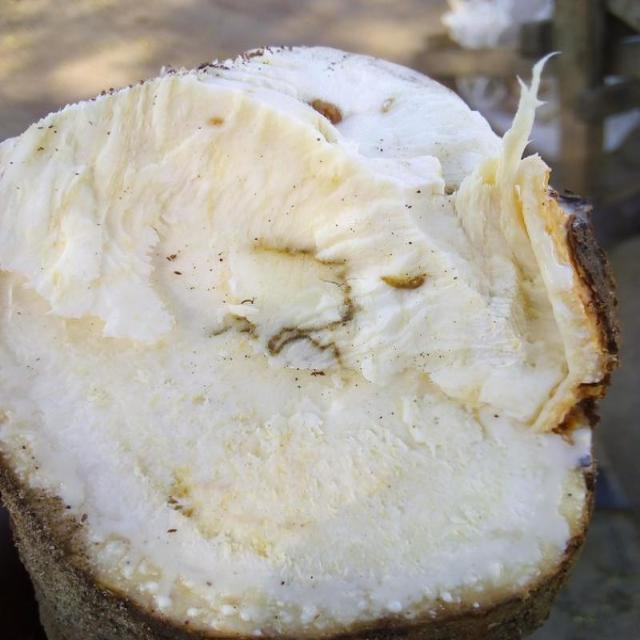cassava leaf: (1, 41, 621, 638)
